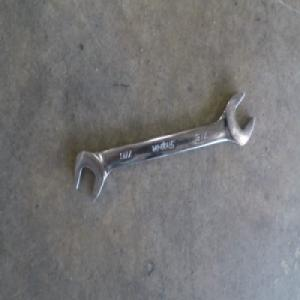Wrench: (73, 89, 254, 201)
